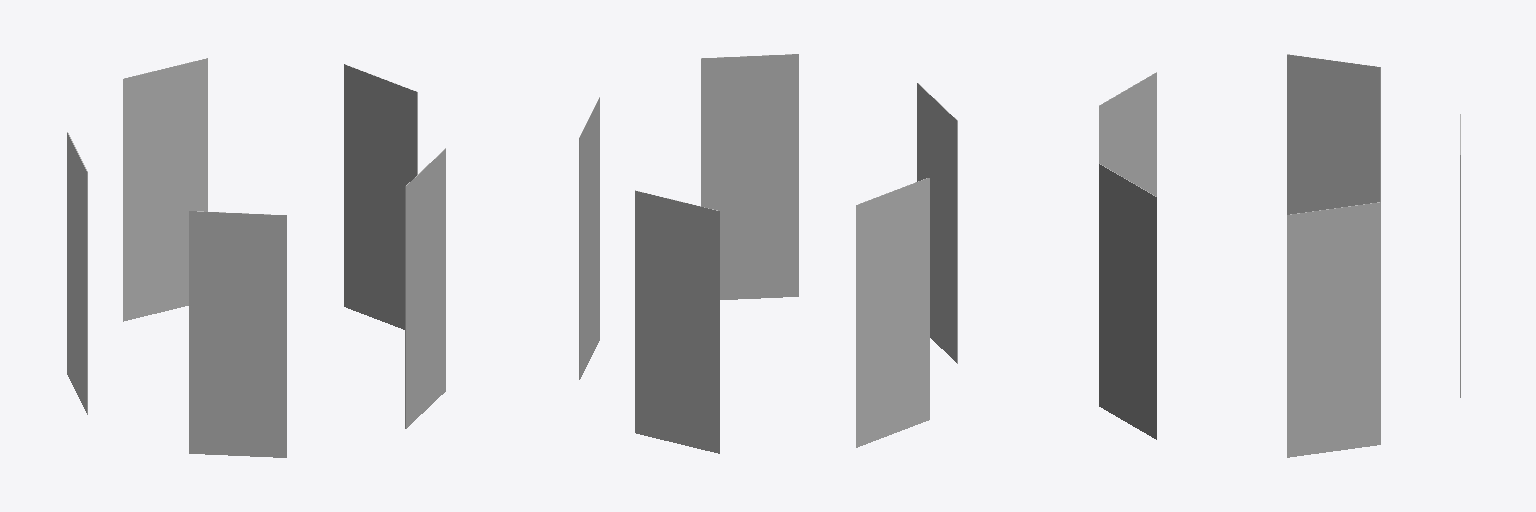
File: glass.obj
3 views of the same model, side by side, from view 1: azimuth 30°, elevation 25°; view 2: azimuth 150°, elevation 25°; view 3: azimuth 270°, elevation 25° (orthographic).
Visible parts, largest first — view 1: 002_Box_-_baked_-_baked, 000_Box_-_baked_-_baked, 004_Box_-_baked_-_baked, 003_Box_-_baked_-_baked, 001_Box_-_baked_-_baked; view 2: 003_Box_-_baked_-_baked, 000_Box_-_baked_-_baked, 001_Box_-_baked_-_baked, 002_Box_-_baked_-_baked, 004_Box_-_baked_-_baked; view 3: 004_Box_-_baked_-_baked, 003_Box_-_baked_-_baked, 001_Box_-_baked_-_baked, 002_Box_-_baked_-_baked.
Boxes of the visible parts, x1,y1,x2,y2 form: 002_Box_-_baked_-_baked: [189, 211, 286, 457]; 000_Box_-_baked_-_baked: [123, 58, 207, 321]; 004_Box_-_baked_-_baked: [344, 64, 417, 329]; 003_Box_-_baked_-_baked: [405, 148, 445, 428]; 001_Box_-_baked_-_baked: [67, 132, 87, 414]; 003_Box_-_baked_-_baked: [701, 54, 798, 299]; 000_Box_-_baked_-_baked: [635, 190, 719, 453]; 001_Box_-_baked_-_baked: [856, 178, 929, 447]; 002_Box_-_baked_-_baked: [917, 83, 957, 363]; 004_Box_-_baked_-_baked: [579, 97, 599, 379]; 004_Box_-_baked_-_baked: [1287, 202, 1380, 457]; 003_Box_-_baked_-_baked: [1099, 164, 1156, 439]; 001_Box_-_baked_-_baked: [1287, 54, 1380, 214]; 002_Box_-_baked_-_baked: [1099, 72, 1156, 196].
Bounding box in the file's own units: 81.1 × 56.96 × 77.13.